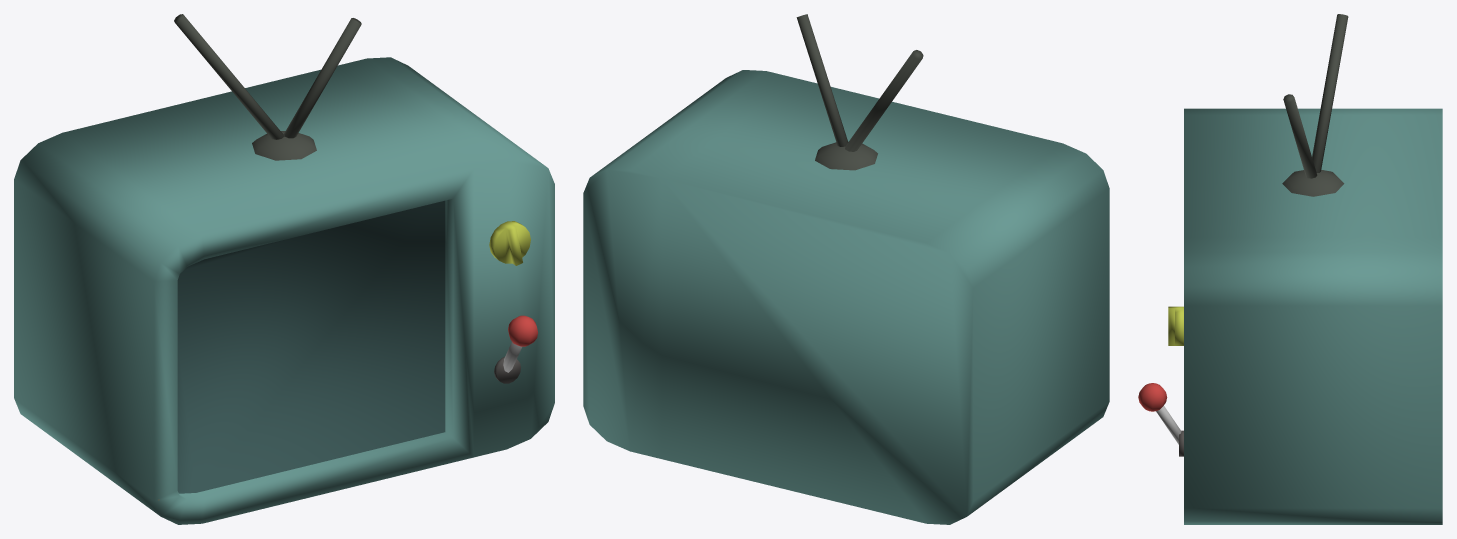
3 renders of one model, left to right at view 1: azimuth 30°, elevation 25°; view 2: azimuth 150°, elevation 25°; view 3: azimuth 270°, elevation 25°, orthographic. The views are drawn at different scales.
Visible parts, largest first — view 1: body, a1, a2, knob, a, ball; view 2: body, a2, a1, a; view 3: body, a1, a, a2, ball, knob, handle.
Part boxes in pixels (bbox=[...]): body: bbox=[14, 57, 554, 524]; a1: bbox=[174, 14, 284, 139]; a2: bbox=[283, 18, 361, 138]; knob: bbox=[489, 221, 530, 265]; a: bbox=[252, 131, 316, 160]; ball: bbox=[508, 315, 537, 346]; body: bbox=[583, 70, 1109, 524]; a2: bbox=[796, 14, 848, 146]; a1: bbox=[845, 50, 923, 151]; a: bbox=[815, 142, 877, 170]; body: bbox=[1184, 108, 1442, 524]; a1: bbox=[1312, 14, 1348, 172]; a: bbox=[1282, 170, 1344, 196]; a2: bbox=[1283, 94, 1317, 178]; ball: bbox=[1138, 383, 1167, 411]; knob: bbox=[1168, 306, 1183, 345]; handle: bbox=[1156, 405, 1181, 444].
Size of the model in its own units: 73.27 by 75.16 by 52.23.
1 material, 1 textured.
